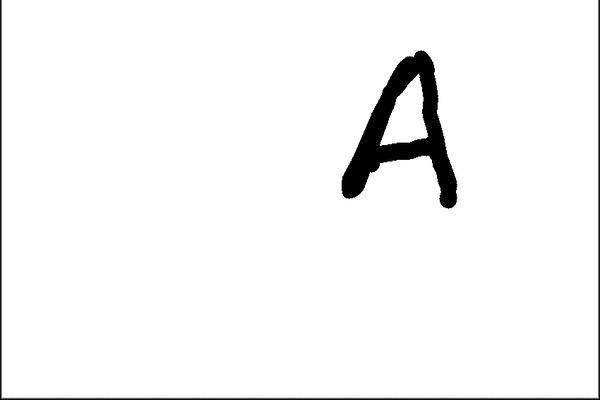A: (329, 48, 471, 220)
